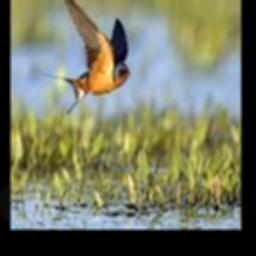Swallow: (40, 0, 130, 115)
